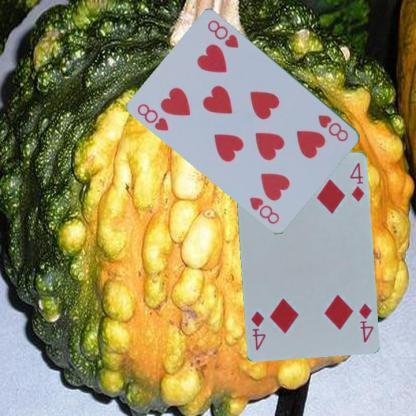4d: (356, 300, 374, 344)
8h: (134, 100, 170, 132), (316, 112, 350, 143)
